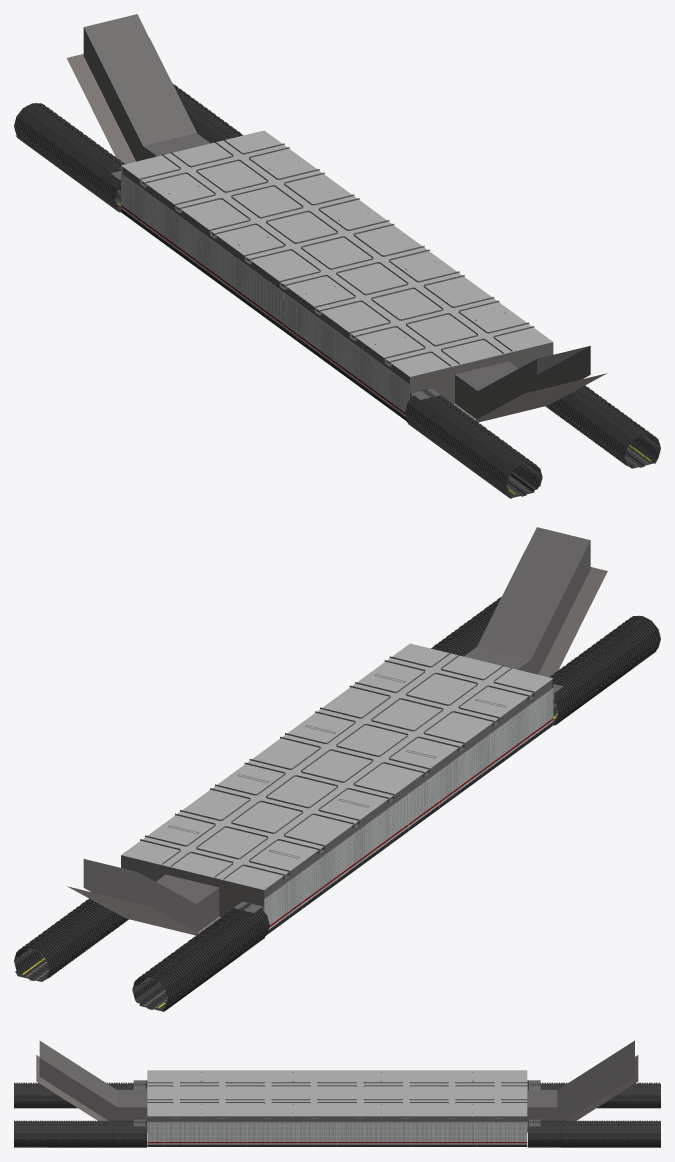
Rendered from stantion.fbx.
The picture shows the model from 3 angles, top to bottom: view 1: azimuth 30°, elevation 25°; view 2: azimuth 150°, elevation 25°; view 3: azimuth 270°, elevation 25°; orthographic projection. The views are drawn at different scales.
Parts seen in each view (by area): view 1: Transportnai, Tunnel.001, Tunnel.002; view 2: Transportnai, Tunnel.002, Tunnel.001; view 3: Transportnai, Tunnel.002, Tunnel.001.
Part boxes in pixels (x1,y1,x2,y2): Transportnai: (66,14,606,422); Tunnel.001: (405,385,660,498); Tunnel.002: (14,83,243,212); Transportnai: (67,527,607,935); Tunnel.002: (14,898,269,1011); Tunnel.001: (430,596,660,725); Transportnai: (36,1040,638,1146); Tunnel.002: (528,1082,660,1147); Tunnel.001: (14,1082,146,1147).
Bounding box in the file's own units: 23.65 × 16.75 × 130.
